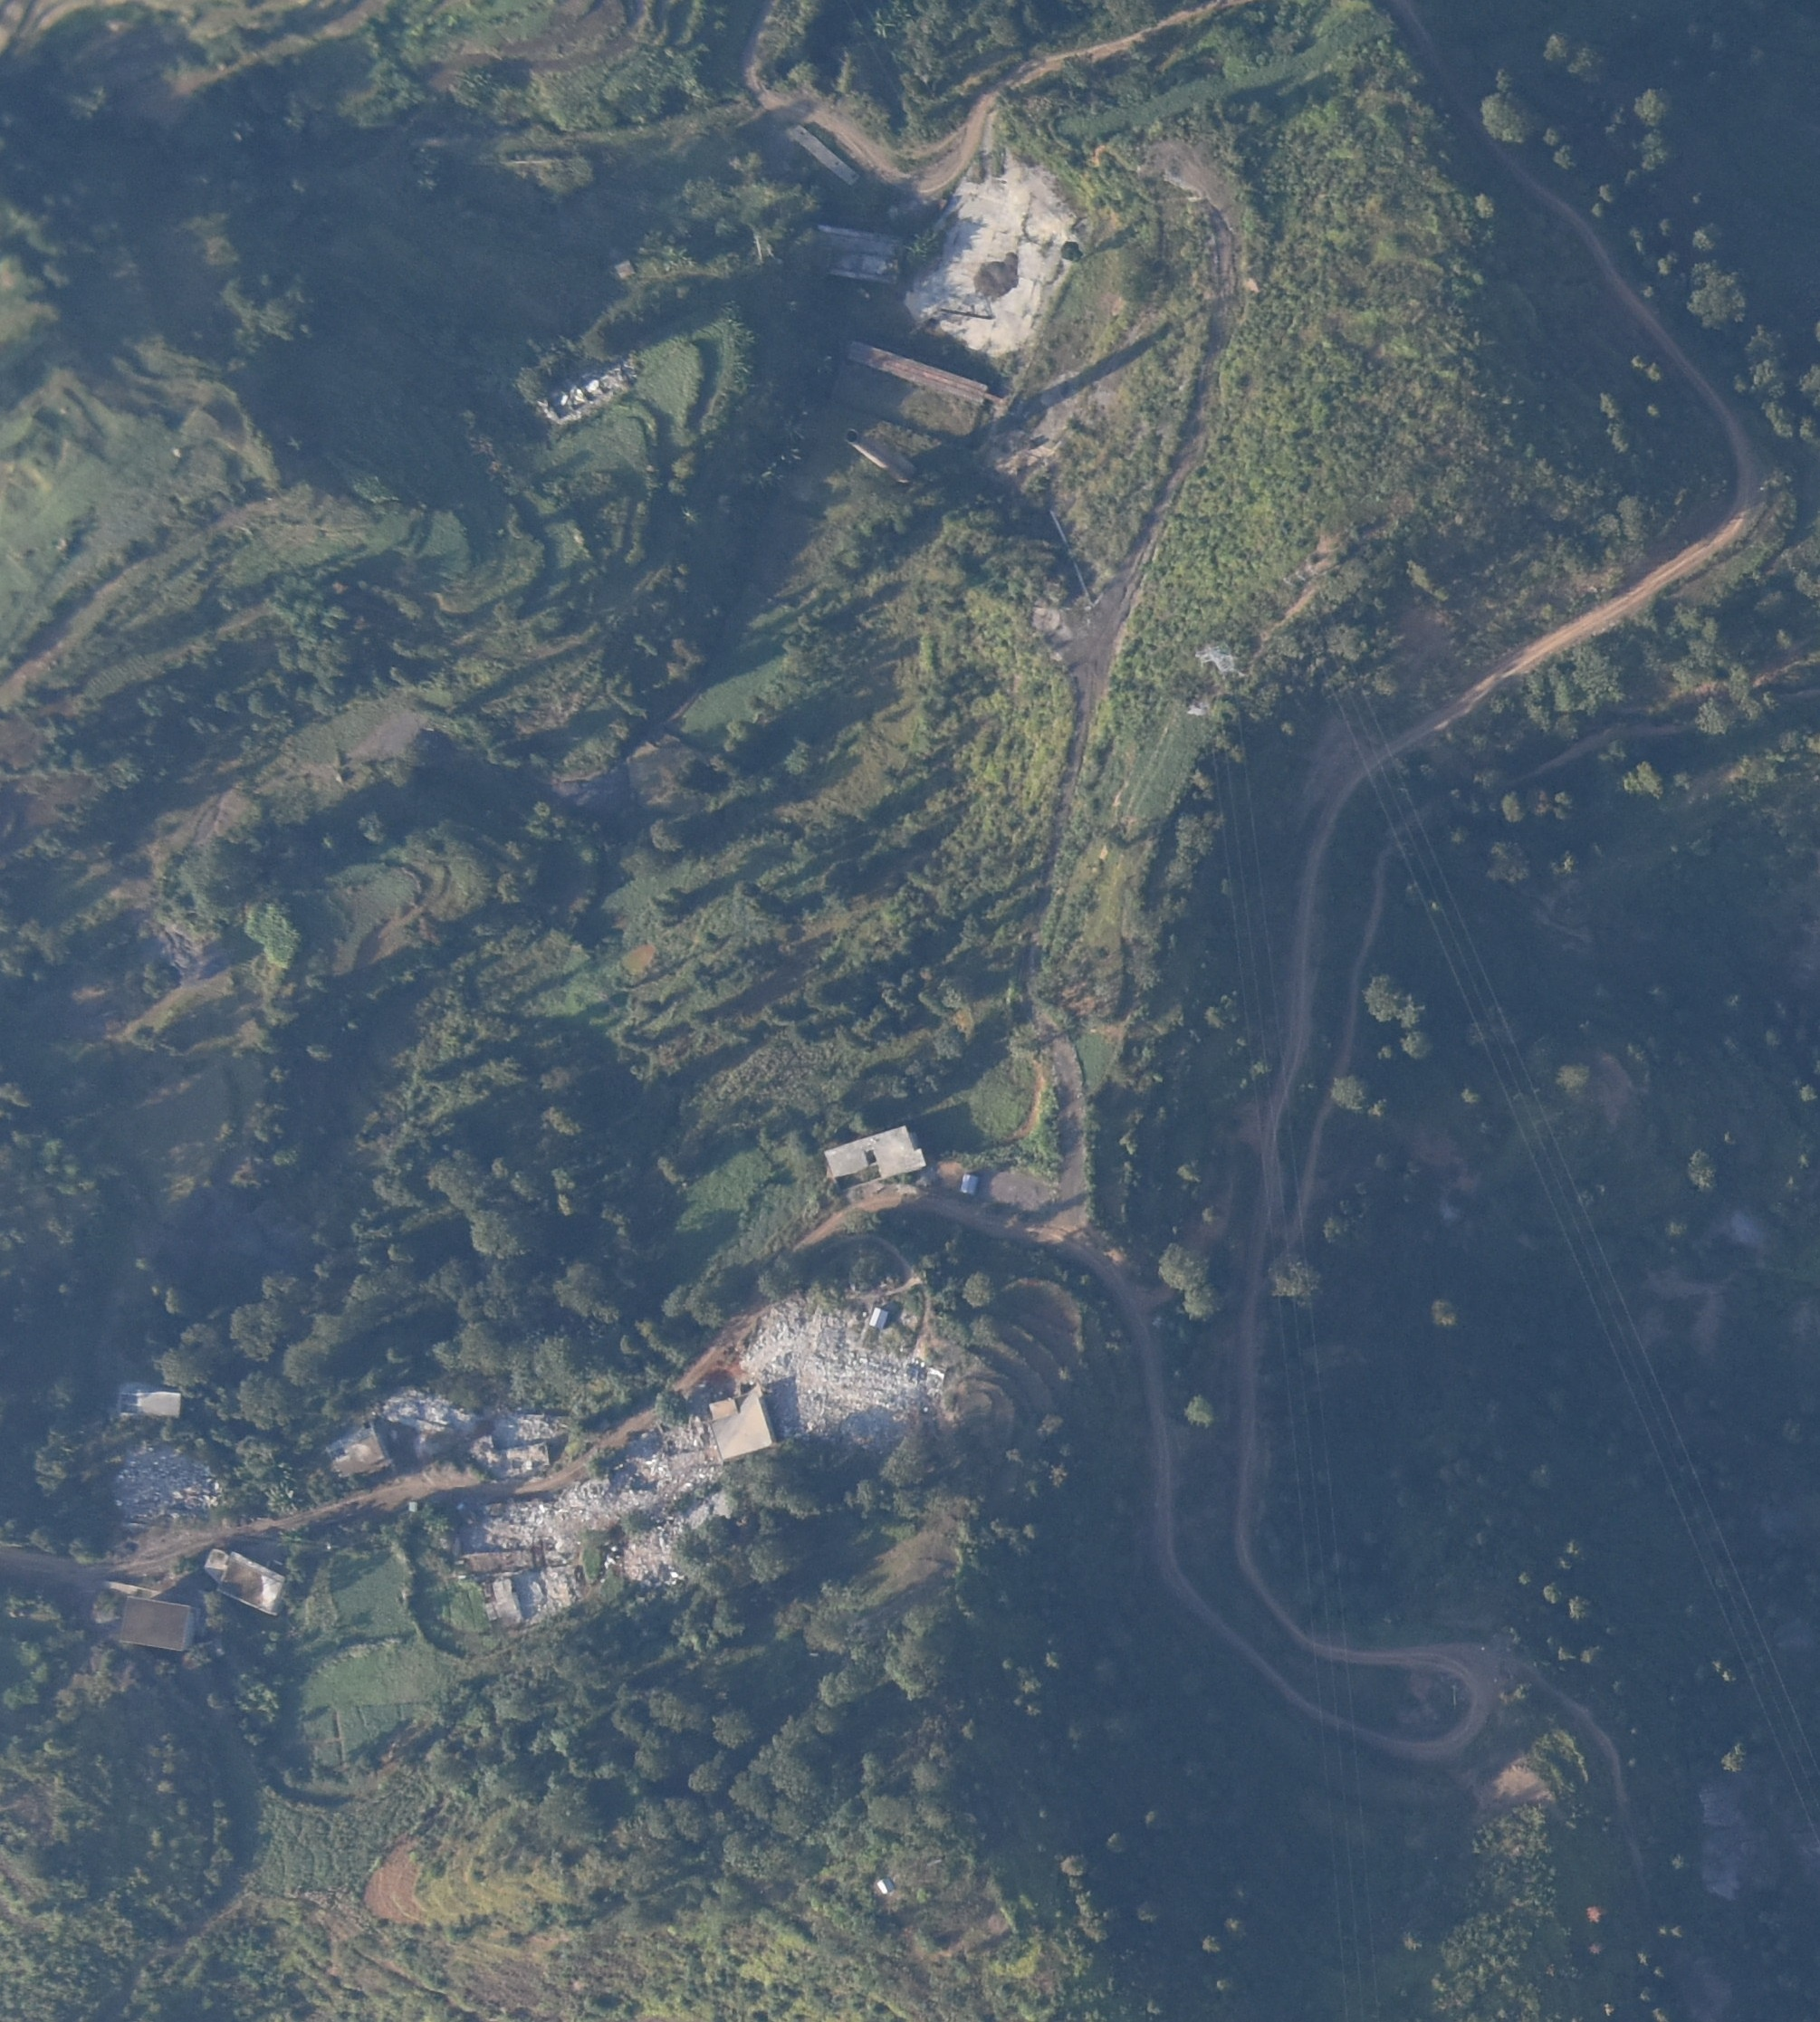building: (843, 339, 993, 406), (824, 1126, 922, 1186), (200, 1548, 286, 1613), (810, 225, 899, 283), (791, 118, 861, 188), (112, 1597, 191, 1653), (708, 1393, 773, 1453), (111, 1390, 184, 1419), (336, 1441, 392, 1479), (957, 1173, 980, 1193), (870, 1305, 885, 1328)
cable-tower: (1191, 634, 1244, 675), (1279, 560, 1321, 589)
quarry: (457, 1425, 719, 1620), (745, 1309, 943, 1460), (383, 1386, 566, 1477), (109, 1442, 216, 1528)
